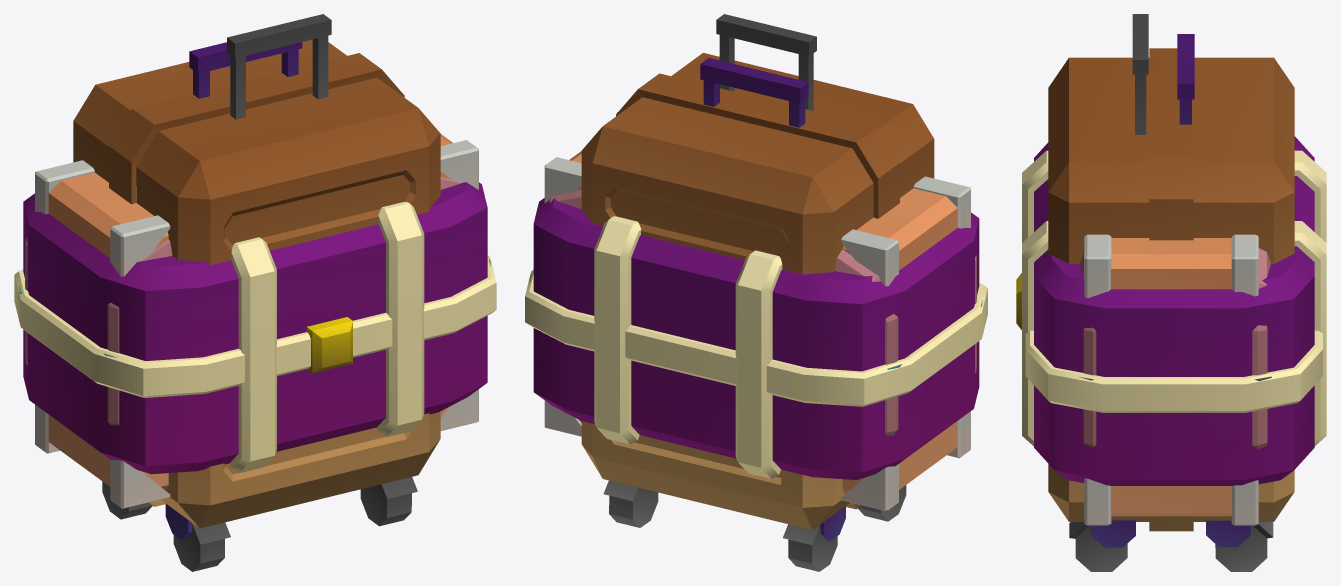
Rendered from luggaga_new.fbx.
3 views of the same model, side by side, from view 1: azimuth 30°, elevation 25°; view 2: azimuth 150°, elevation 25°; view 3: azimuth 270°, elevation 25° (orthographic). The views are drawn at different scales.
Visible parts, largest first — view 1: luggage2_v, luggage3_v, luggage_v, luggage4_v, luggage1_v; view 2: luggage2_v, luggage3_v, luggage_v, luggage4_v, luggage1_v; view 3: luggage2_v, luggage3_v, luggage_v, luggage4_v, luggage1_v.
Boxes of the visible parts, <box> form: luggage2_v: <box>14,182,496,474</box>; luggage3_v: <box>73,14,440,571</box>; luggage_v: <box>35,93,478,508</box>; luggage4_v: <box>136,42,302,540</box>; luggage1_v: <box>19,177,490,425</box>; luggage2_v: <box>525,198,987,479</box>; luggage3_v: <box>581,14,934,571</box>; luggage_v: <box>544,112,970,510</box>; luggage4_v: <box>700,58,845,540</box>; luggage1_v: <box>529,189,982,435</box>; luggage2_v: <box>1016,136,1326,485</box>; luggage3_v: <box>1048,14,1294,571</box>; luggage_v: <box>1084,234,1258,525</box>; luggage4_v: <box>1091,34,1250,547</box>; luggage1_v: <box>1079,248,1271,449</box>.
Size of the model in its own units: 92.88 by 111 by 64.35.
Materials: 1 (1 with a texture image).
